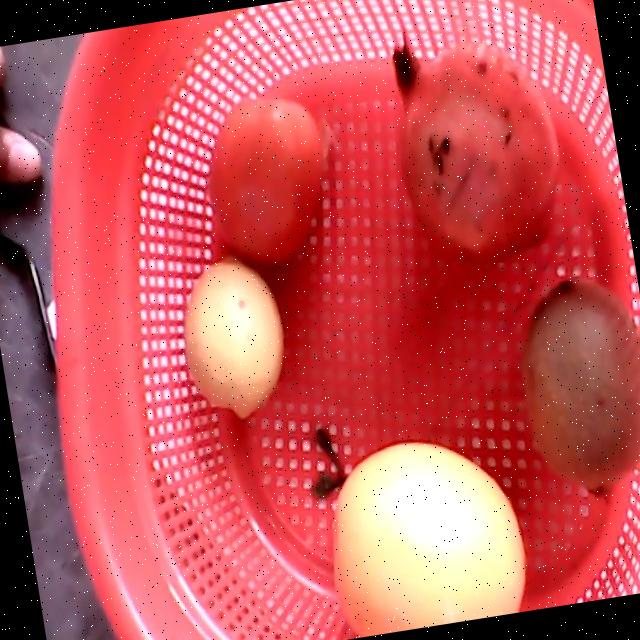kiwi: (522, 278, 640, 499)
lemon: (184, 262, 284, 421)
orange: (332, 443, 526, 636)
pomegranate: (393, 35, 559, 270)
tomato: (210, 95, 326, 266)
